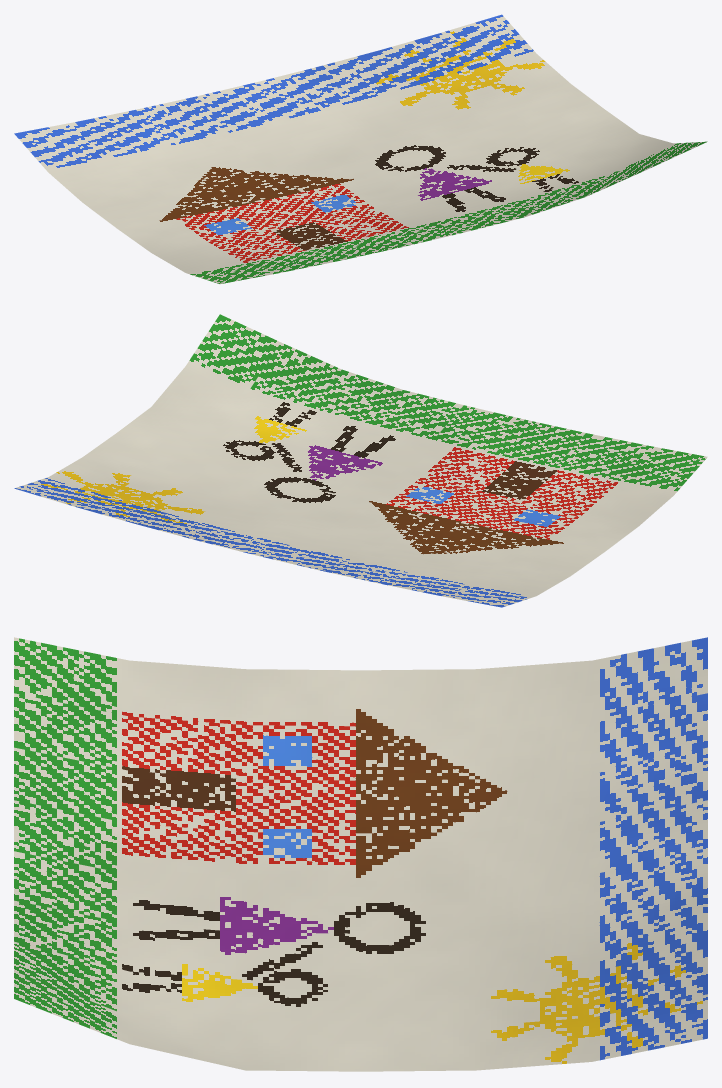
Rendered from item_drawing.glb.
The picture shows the model from 3 angles, top to bottom: view 1: azimuth 30°, elevation 25°; view 2: azimuth 150°, elevation 25°; view 3: azimuth 270°, elevation 25°; orthographic projection. The views are drawn at different scales.
Parts seen in each view (by area): view 1: drawing; view 2: drawing; view 3: drawing.
Boxes of the visible parts, left/top/right/bottom form: drawing: left=14, top=14, right=707, bottom=284; drawing: left=14, top=314, right=707, bottom=607; drawing: left=14, top=637, right=707, bottom=1071.
Size of the model in its own units: 0.26 by 0.0266 by 0.19.
2 materials, 2 textured.
